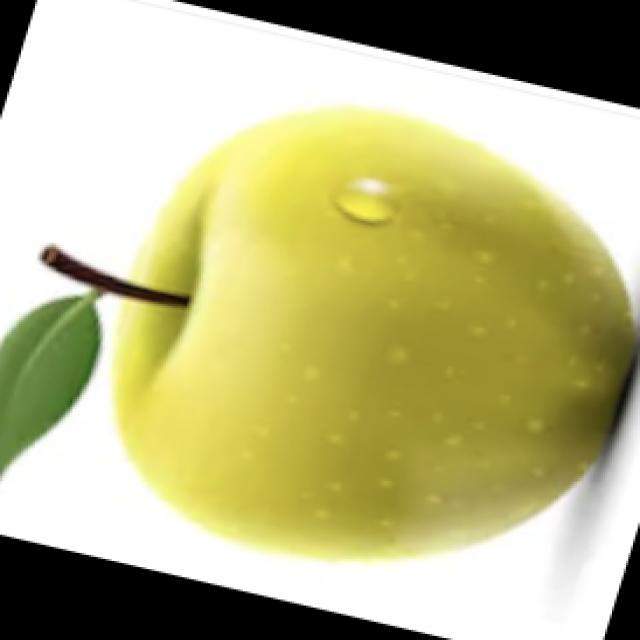Fresh Apple: (90, 127, 640, 560)
